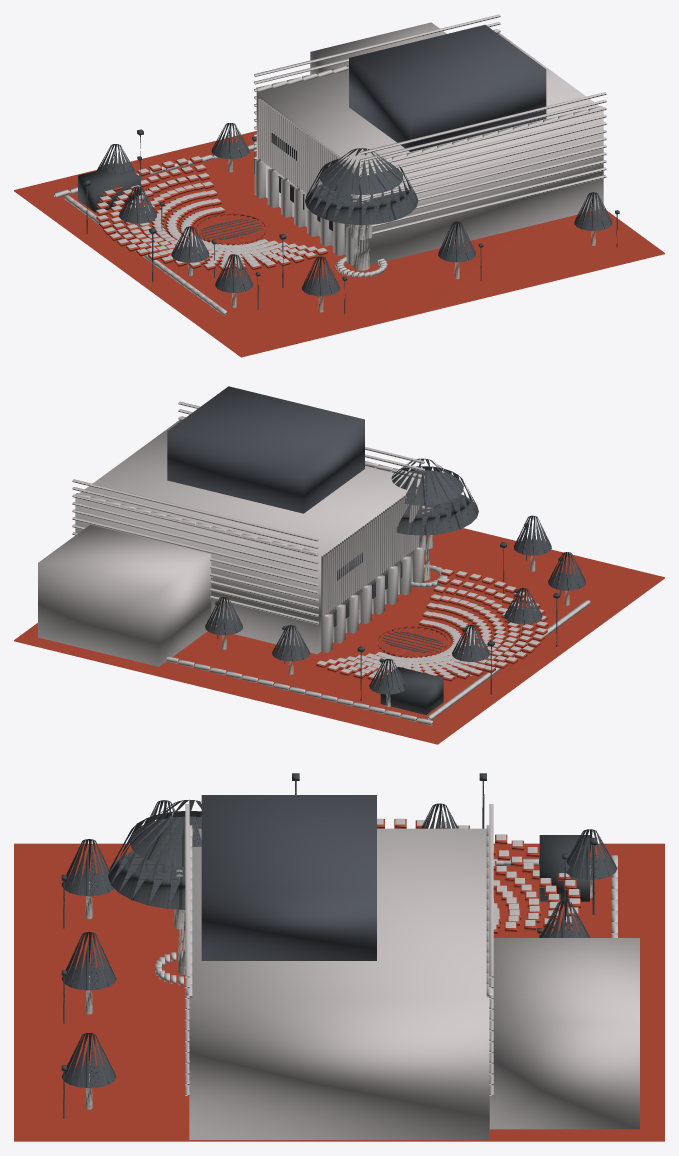
The picture shows the model from 3 angles, top to bottom: view 1: azimuth 30°, elevation 25°; view 2: azimuth 150°, elevation 25°; view 3: azimuth 270°, elevation 25°; orthographic projection. The views are drawn at different scales.
Visible parts, largest first — view 1: maronnier_park_ground_plinth, arko_arts_theater_red_brick, arko_theater_roof_and_flytower, maronnier_historic_trees, maronnier_outdoor_amphitheater, arko_piloti_and_glass_lobby, arko_art_center_wing; view 2: arko_arts_theater_red_brick, maronnier_park_ground_plinth, arko_art_center_wing, arko_theater_roof_and_flytower, maronnier_outdoor_amphitheater, maronnier_historic_trees, arko_piloti_and_glass_lobby; view 3: arko_arts_theater_red_brick, maronnier_park_ground_plinth, arko_theater_roof_and_flytower, arko_art_center_wing, maronnier_historic_trees, maronnier_outdoor_amphitheater.
Boxes of the visible parts, box(x1,y1,x2,y2) form: maronnier_park_ground_plinth: box(14, 131, 664, 357); arko_arts_theater_red_brick: box(254, 14, 606, 266); arko_theater_roof_and_flytower: box(349, 24, 546, 151); maronnier_historic_trees: box(97, 123, 619, 314); maronnier_outdoor_amphitheater: box(54, 129, 327, 315); arko_piloti_and_glass_lobby: box(254, 159, 357, 265); arko_art_center_wing: box(310, 22, 446, 74); arko_arts_theater_red_brick: box(72, 401, 424, 654); maronnier_park_ground_plinth: box(14, 528, 664, 744); arko_art_center_wing: box(38, 524, 212, 666); arko_theater_roof_and_flytower: box(167, 386, 364, 513); maronnier_outdoor_amphitheater: box(166, 542, 590, 725); maronnier_historic_trees: box(205, 458, 585, 706); arko_piloti_and_glass_lobby: box(321, 546, 424, 652); arko_arts_theater_red_brick: box(185, 804, 493, 1139); maronnier_park_ground_plinth: box(14, 835, 664, 1141); arko_theater_roof_and_flytower: box(201, 795, 376, 960); arko_art_center_wing: box(489, 938, 639, 1129); maronnier_historic_trees: box(61, 799, 617, 1118); maronnier_outdoor_amphitheater: box(292, 773, 617, 937).
Size of the model in its own units: 56.2 by 18.9 by 52.
5 materials, 5 textured.
